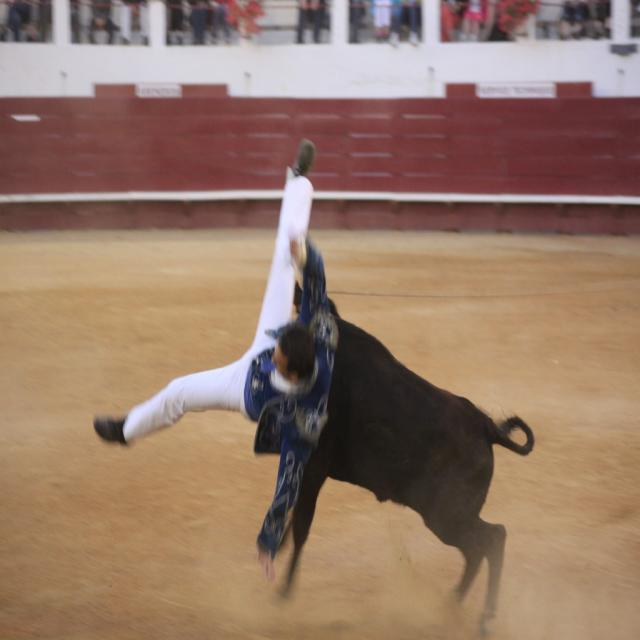Bull: (271, 280, 535, 639)
